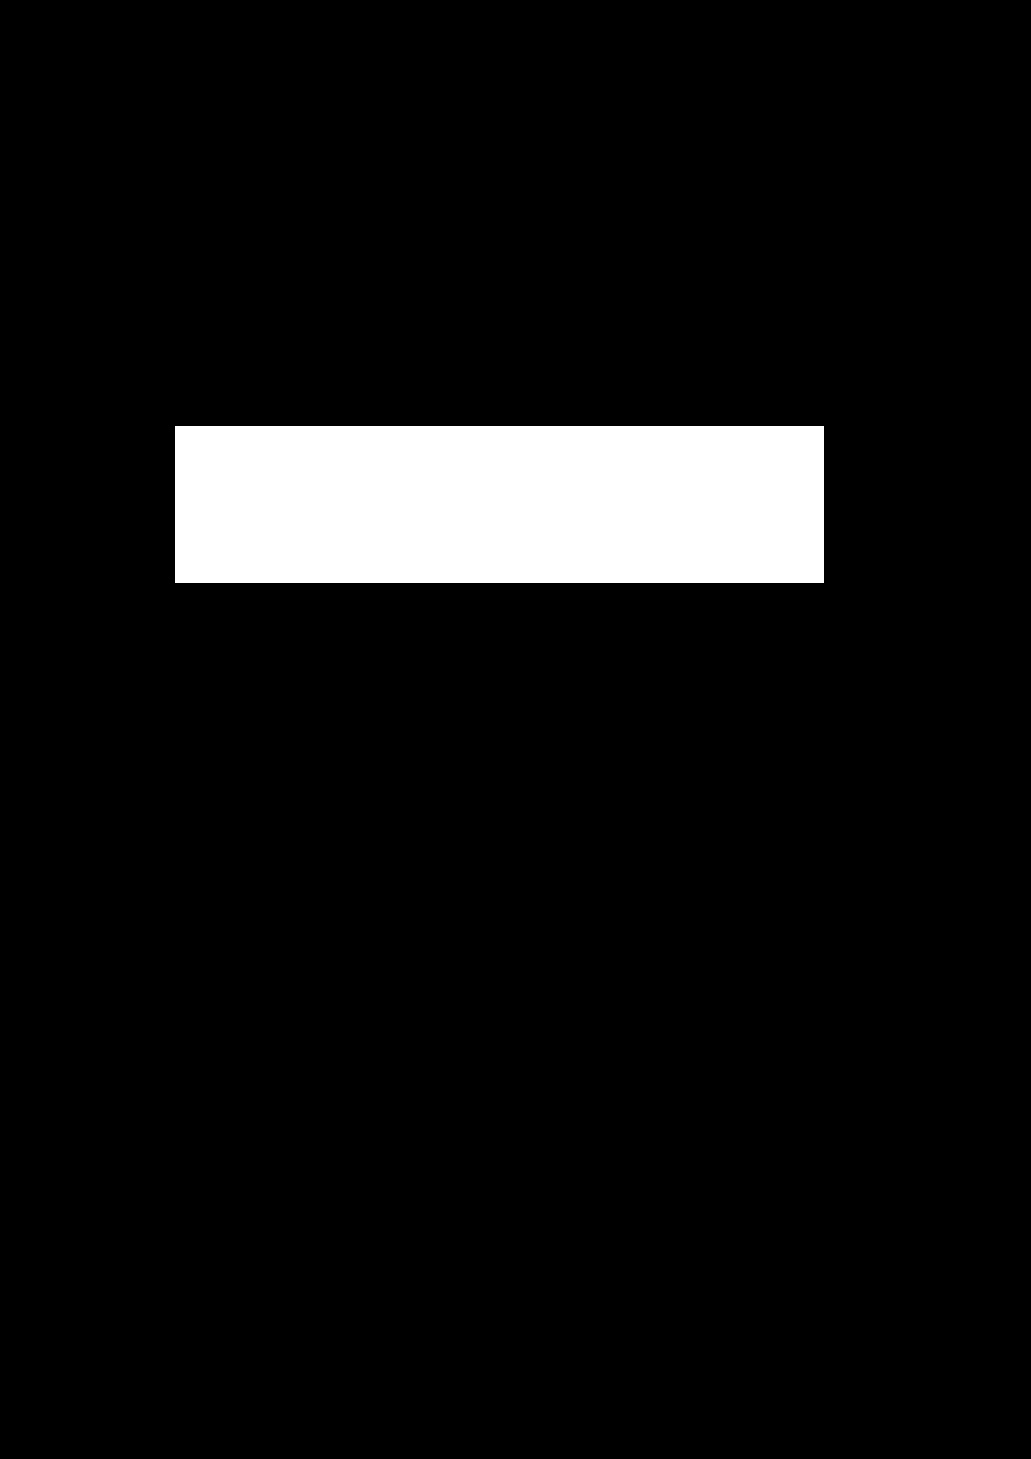table: (175, 426, 823, 582)
